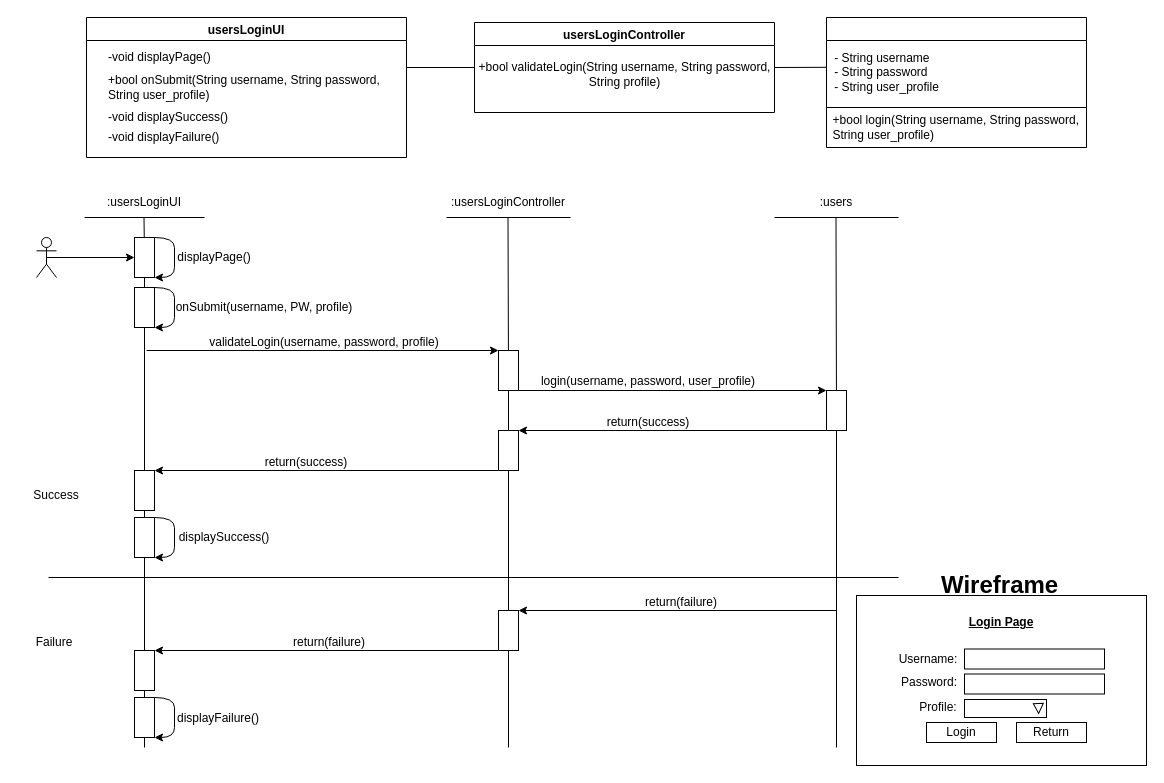
Image size: 1164x783. Some labels were removed from this diagram. The shapes that lost their labels are listed below. From the top down, each one's box as (x1, y1, x2, y2) in pixels, then its label:
(826, 16, 1086, 148): users
(36, 236, 56, 278): Restaurant Manager
